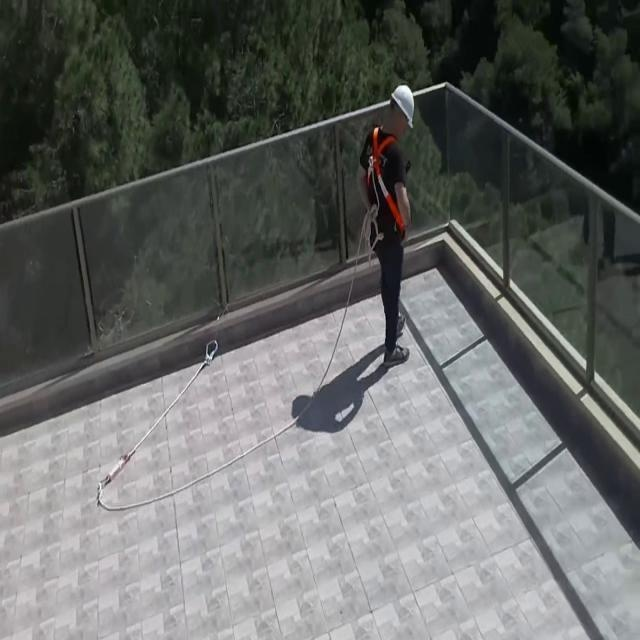Arnes_seguridad: (363, 126, 408, 239)
